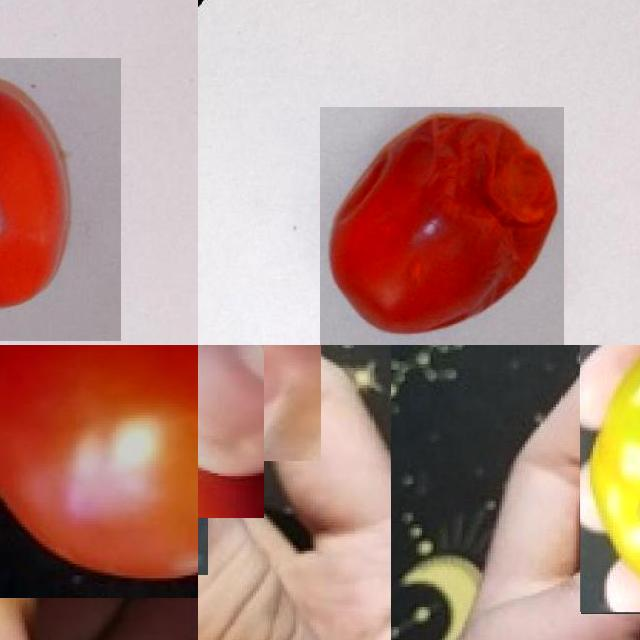Fresh Tomato: (0, 345, 198, 598), (0, 58, 121, 341), (198, 345, 264, 518)
Rotten Tomato: (320, 107, 563, 345), (580, 345, 640, 613)
